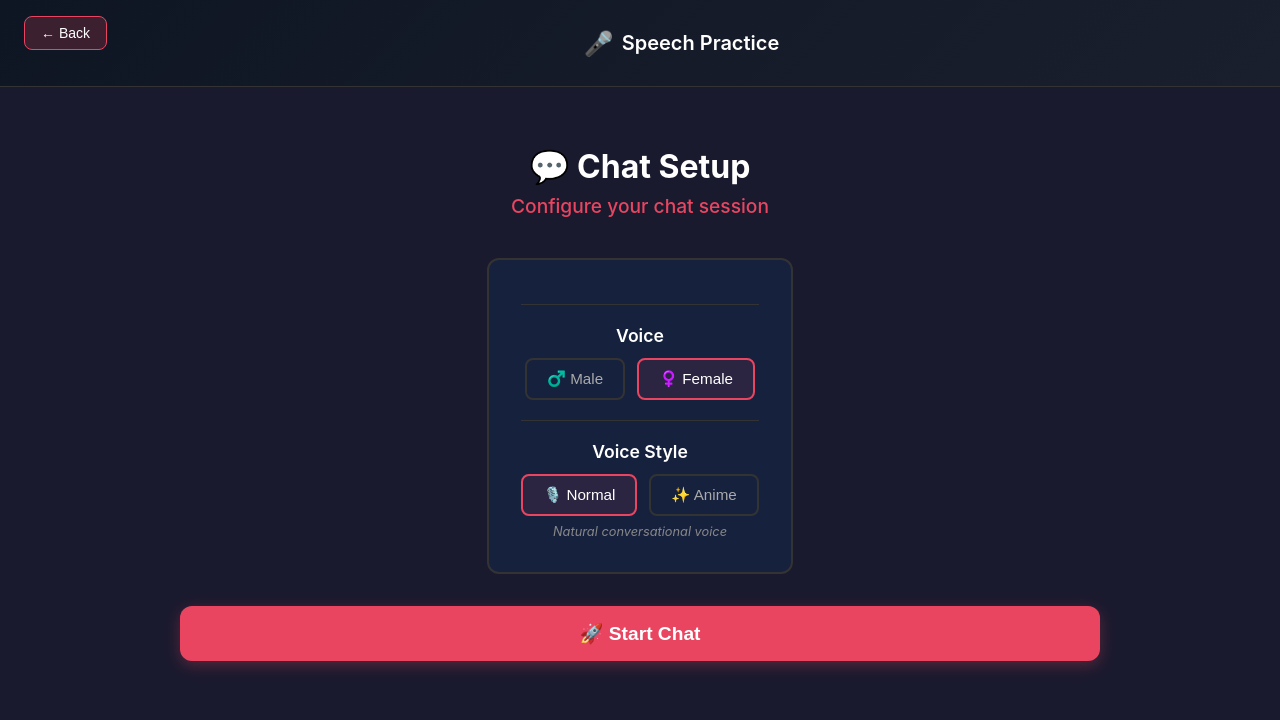
Test case: ChatSetup › voice style selection › should show anime hint when anime is selected
The width and height of the screenshot is (1280, 720).
Click the button "✨ Anime": point(704, 495) [649,474,759,516]
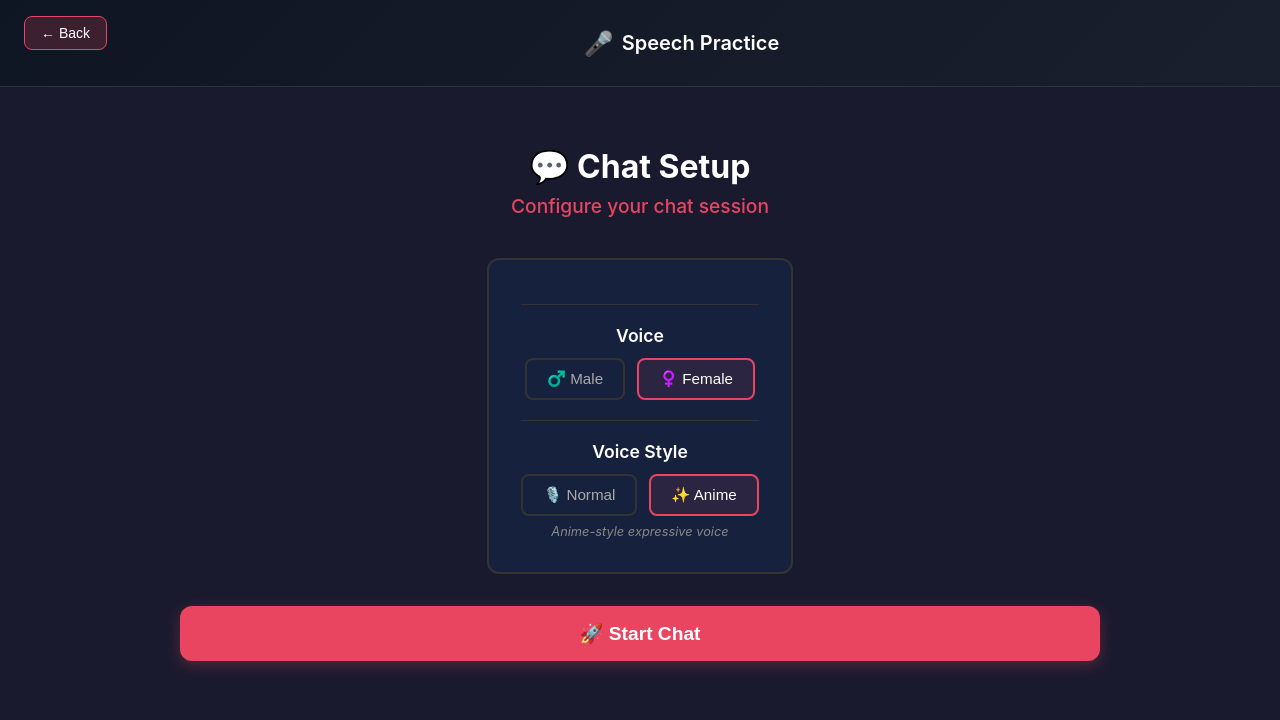
Expected: the text "Anime-style expressive voice" is shown, [551,524,729,539]
